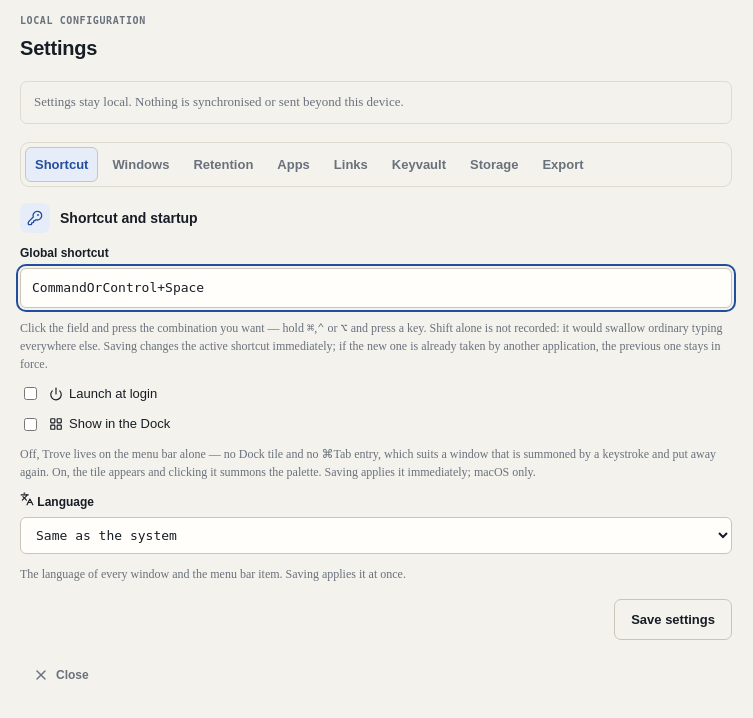
Test: SettingsPanel validation and transactions › applies native autostart before persisting settings
Step 1. Click the checkbox labelled "Launch at login" → (30, 394), box [24, 387, 37, 400]
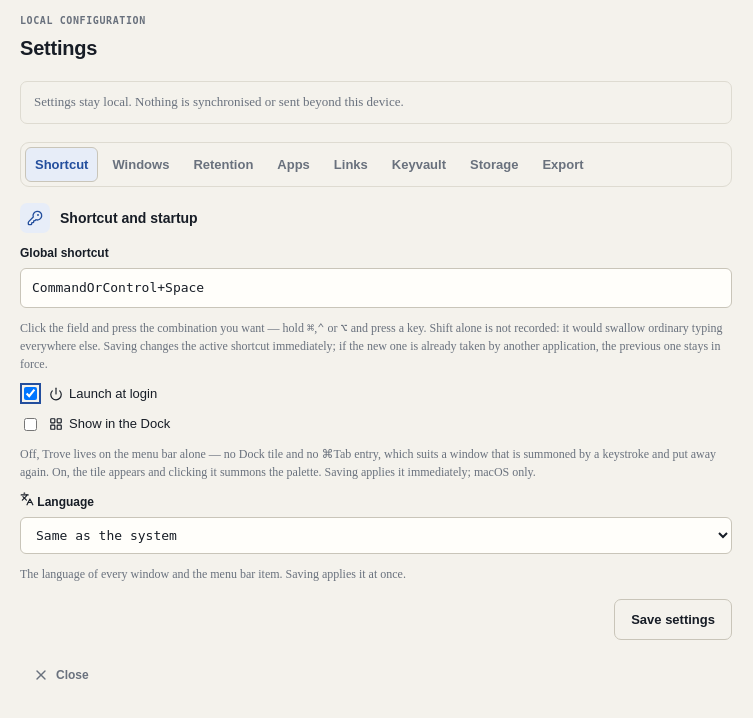
Step 2. Click the button "Save settings" → (673, 620), box [614, 599, 732, 640]
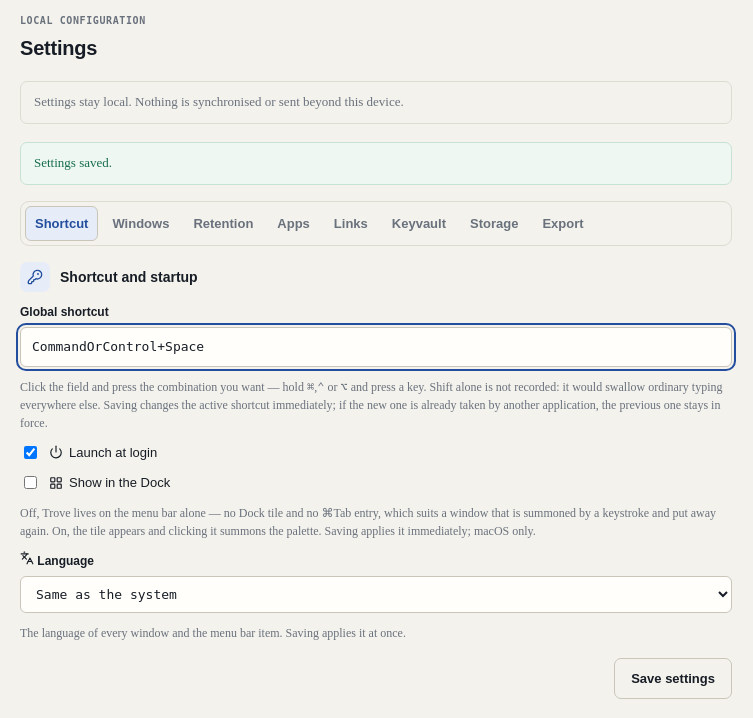
Check: the message shows "Settings saved", box [34, 155, 112, 170]
